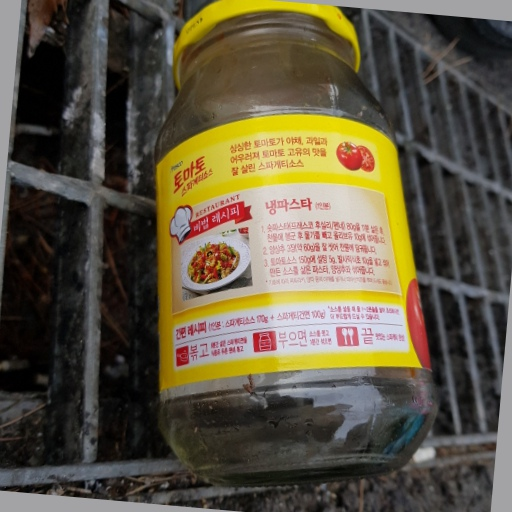Glass_5: (151, 2, 440, 483)
